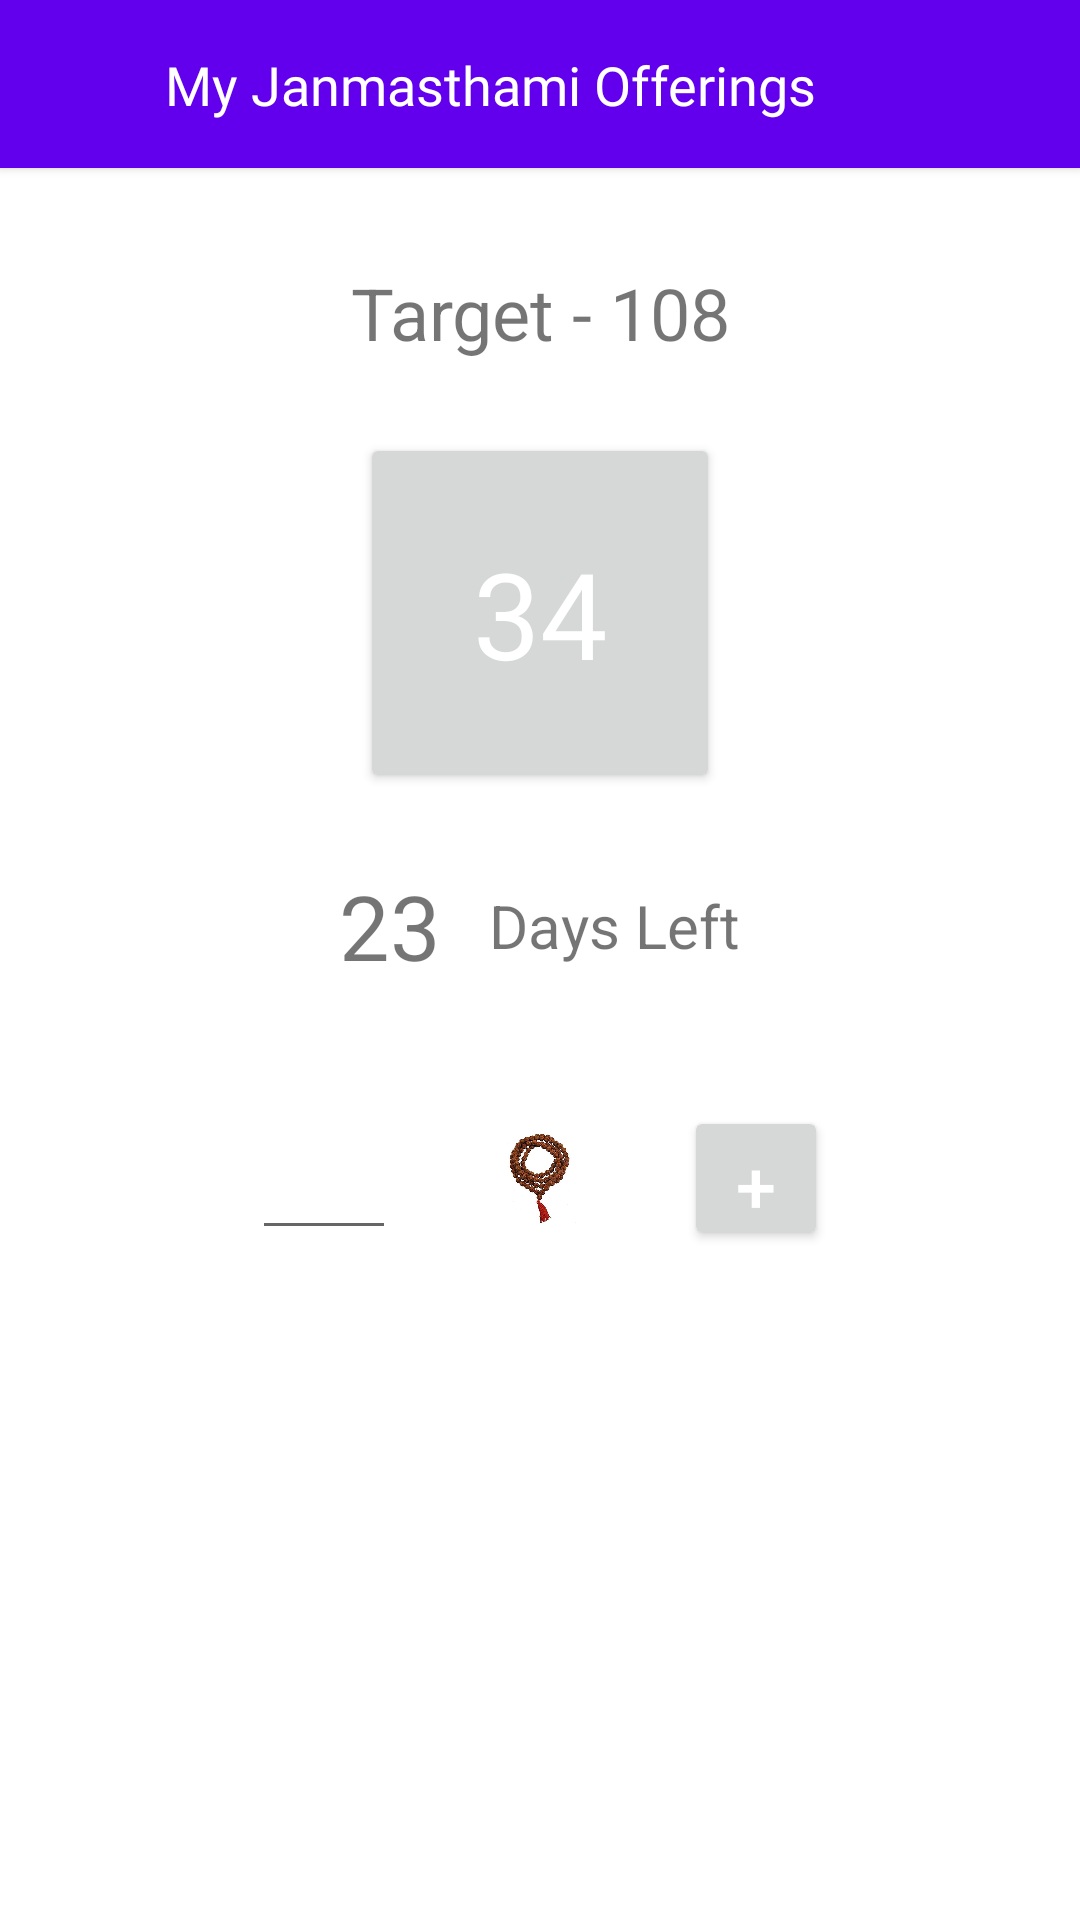

Icon bounding boxes for this 1080*1920 phone screenshot, format (left=x1, top=y1, right=x2, bottom=y2):
mala: (left=510, top=1134, right=570, bottom=1223)
